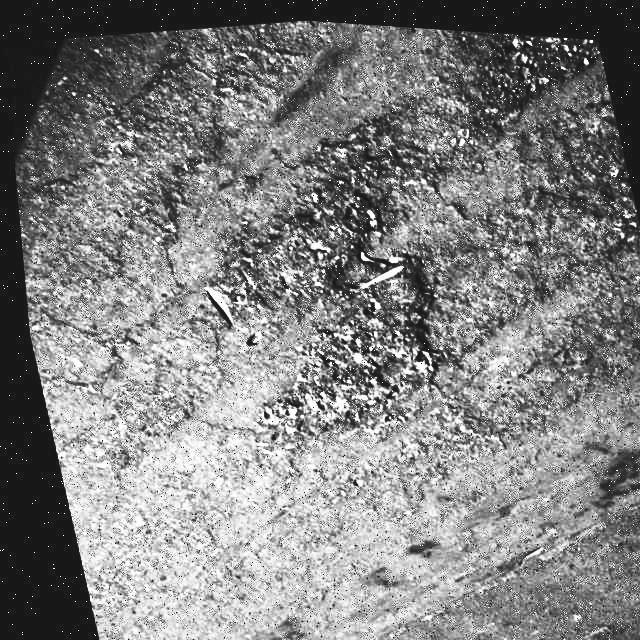Pothole: (145, 114, 490, 469)
